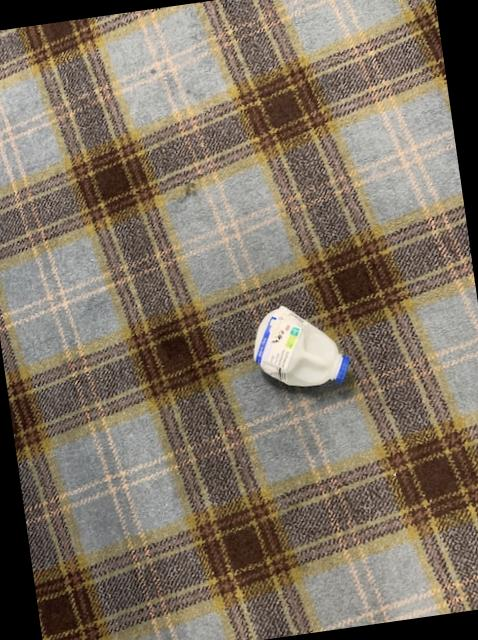plastic: (254, 308, 349, 388)
